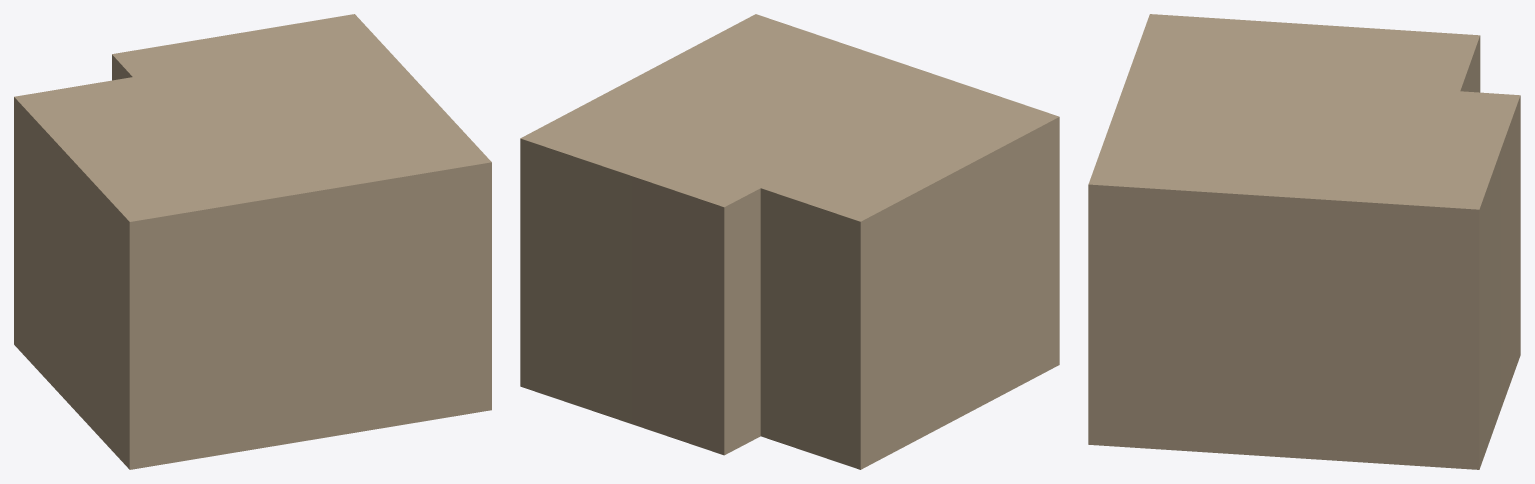
Rendered from bld_108162035.dae.
3 views of the same model, side by side, from view 1: azimuth 30°, elevation 25°; view 2: azimuth 150°, elevation 25°; view 3: azimuth 270°, elevation 25° (orthographic). The views are drawn at different scales.
Visible parts, largest first — view 1: bld_108162035; view 2: bld_108162035; view 3: bld_108162035.
Boxes of the visible parts, left/top/right/bottom form: bld_108162035: left=14, top=14, right=491, bottom=469; bld_108162035: left=520, top=14, right=1059, bottom=469; bld_108162035: left=1088, top=14, right=1520, bottom=469.
Size of the model in its own units: 12.9 by 12.04 by 8.
